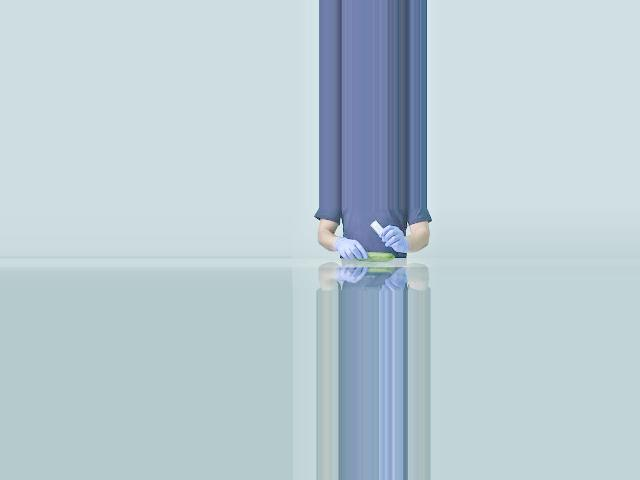cucumber: (355, 252, 394, 262)
